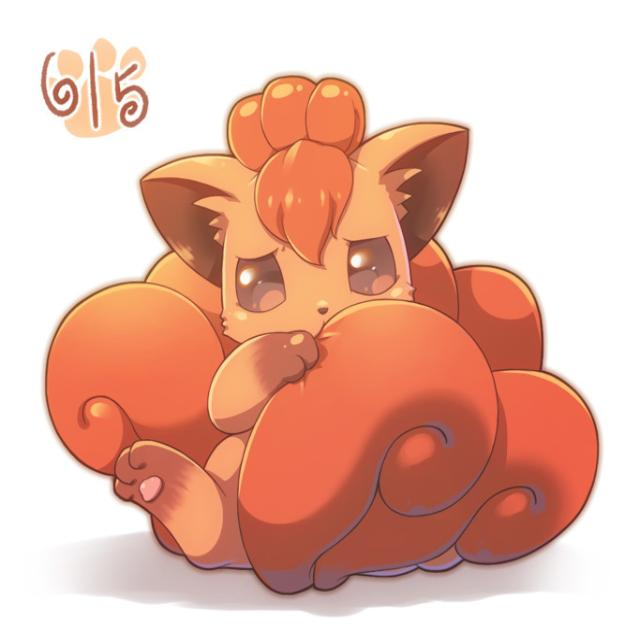Vulpix: (142, 74, 484, 584)
